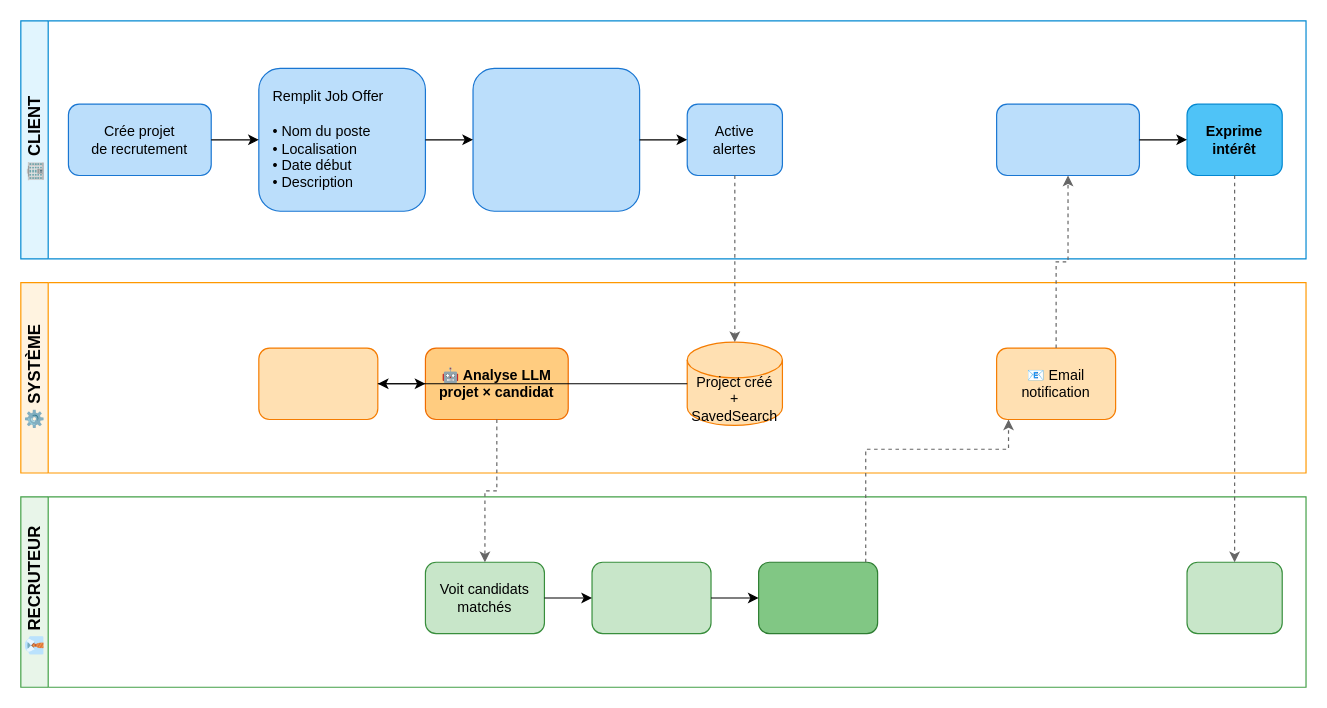
This 1327x708 diagram has some shape labels left out. The shapes that lost their labels are listed below. From the top down, each one's centre as x and y in pixels, then its label:
At [556,139]: "Définit critères recherche • Secteurs • Compétences • Localisation".
At [1067,139]: "Consulte profils proposés (anonymisés)".
At [318,383]: "Matching automatique candidats".
At [651,597]: "Vérifie analyse LLM".
At [817,597]: "🚀 Valide & Pousse".
At [1234,597]: "Reçoit notif intérêt client".
